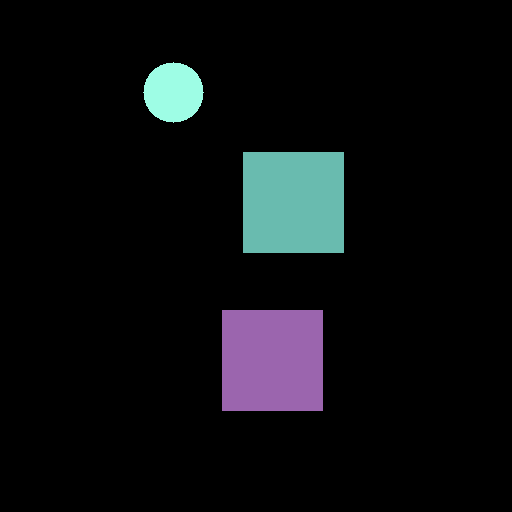circle: (143, 62, 203, 122)
square: (222, 310, 322, 410), (243, 152, 343, 252)
